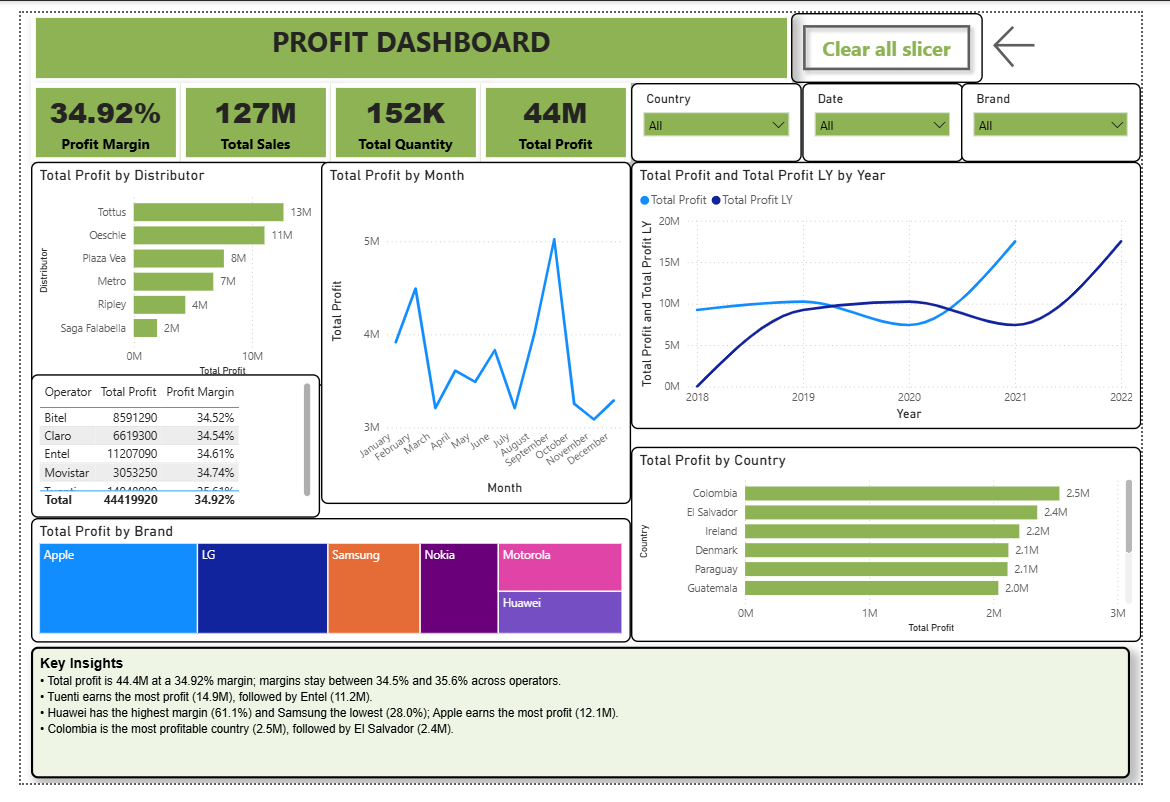

This screenshot's page, from the dashboard's own definition file:
{"tool":"powerbi","page":{"name":"PROFIT DASHBOARD","canvas":[1280,880],"ordinal":2},"visuals":[{"type":"textbox","box":[10.7,0,869.7,79.6],"z":0},{"type":"card","fields":{"Values":["calculationdata.Profit Margin"]},"box":[10.7,79.6,171.5,90.3],"z":1000},{"type":"card","fields":{"Values":["calculationdata.Total Sales"]},"box":[182.2,79.6,171.5,90.3],"z":2000},{"type":"card","fields":{"Values":["calculationdata.Total Quantity"]},"box":[353.7,79.6,171.5,90.3],"z":3000},{"type":"card","fields":{"Values":["calculationdata.Total Profit"]},"box":[525.2,79.6,171.5,90.3],"z":4000},{"type":"clusteredBarChart","fields":{"Category":["Phone Sales.Distributor"],"Y":["calculationdata.Total Profit"]},"box":[10.7,170,343,255.7],"z":5000},{"type":"lineChart","fields":{"Category":["Date_Phones.Date.Variation.Date Hierarchy.Month"],"Y":["calculationdata.Total Profit"]},"box":[342.7,169.9,354.1,390.9],"z":6000},{"type":"lineChart","fields":{"Category":["Date_Phones.Date.Variation.Date Hierarchy.Year"],"Y":["calculationdata.Total Profit","calculationdata.Total Profit LY"]},"box":[696.8,169.9,583.5,305.9],"z":7000},{"type":"treemap","fields":{"Group":["Phone Sales.Brand"],"Values":["calculationdata.Total Profit"]},"box":[10.7,577.2,685.9,142.4],"z":8000},{"type":"tableEx","fields":{"Values":["Phone Sales.Operator","calculationdata.Total Profit","calculationdata.Profit Margin"]},"box":[10.7,413.4,330.7,163.8],"z":9000},{"type":"clusteredBarChart","fields":{"Category":["Phone Sales.Country"],"Y":["calculationdata.Total Profit"]},"box":[696.7,496.1,583.3,223.5],"z":10000},{"type":"slicer","fields":{"Values":["Phone Sales.Country"]},"box":[696.8,79.3,195.4,90.6],"z":11000},{"type":"slicer","fields":{"Values":["Phone Sales.Date"]},"box":[892.2,79.3,183.7,90.3],"z":12000},{"type":"slicer","fields":{"Values":["Phone Sales.Brand"]},"box":[1074.9,79.3,205.4,90.6],"z":13000},{"type":"actionButton","box":[880.4,0,218.9,79.6],"z":14000},{"type":"actionButton","box":[1105.5,9.2,174.5,59.7],"z":15000},{"type":"textbox","box":[12,724,1256,150],"z":18000}]}

Visuals, with their boxes in screenshot pixels (x1, y1, x2, y2), scaled from the page's 1280x880 canvas onto the 1170x802 screenshot:
textbox: locate(10, 0, 805, 73)
card - calculationdata.Profit Margin: locate(10, 73, 167, 155)
card - calculationdata.Total Sales: locate(167, 73, 323, 155)
card - calculationdata.Total Quantity: locate(323, 73, 480, 155)
card - calculationdata.Total Profit: locate(480, 73, 637, 155)
clusteredBarChart - Phone Sales.Distributor x calculationdata.Total Profit: locate(10, 155, 323, 388)
lineChart - Date_Phones.Date.Variation.Date Hierarchy.Month x calculationdata.Total Profit: locate(313, 155, 637, 511)
lineChart - Date_Phones.Date.Variation.Date Hierarchy.Year x calculationdata.Total Profit: locate(637, 155, 1169, 434)
treemap - Phone Sales.Brand x calculationdata.Total Profit: locate(10, 526, 637, 656)
tableEx - Phone Sales.Operator x calculationdata.Total Profit: locate(10, 377, 312, 526)
clusteredBarChart - Phone Sales.Country x calculationdata.Total Profit: locate(637, 452, 1169, 656)
slicer - Phone Sales.Country: locate(637, 72, 816, 155)
slicer - Phone Sales.Date: locate(816, 72, 983, 155)
slicer - Phone Sales.Brand: locate(983, 72, 1169, 155)
actionButton: locate(805, 0, 1005, 73)
actionButton: locate(1010, 8, 1169, 63)
textbox: locate(11, 660, 1159, 797)
